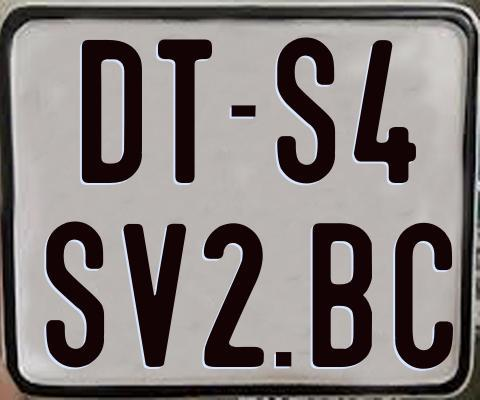2: (203, 221, 267, 367)
4: (351, 38, 414, 183)
B: (311, 222, 375, 368)
C: (394, 220, 452, 372)
D: (79, 39, 139, 184)
S: (276, 34, 340, 184), (45, 221, 106, 370)
T: (158, 39, 218, 184)
V: (121, 221, 190, 366)
